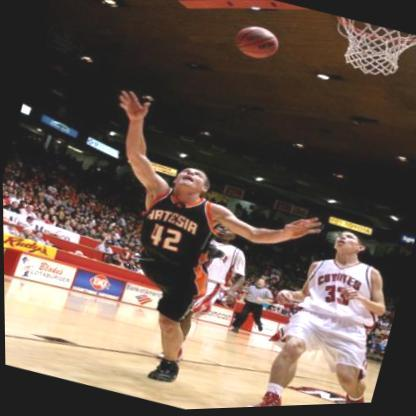basketball: (229, 21, 281, 67)
rim: (331, 16, 416, 56)
